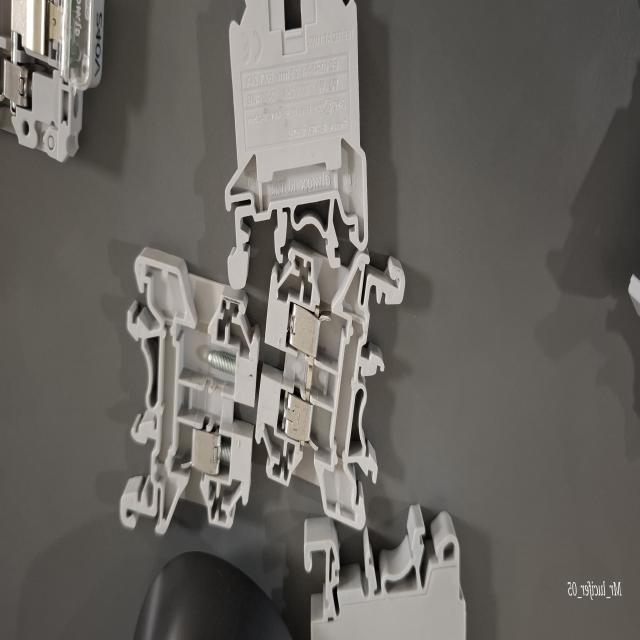Pass: (249, 173, 428, 525)
Reject: (117, 216, 266, 569)
